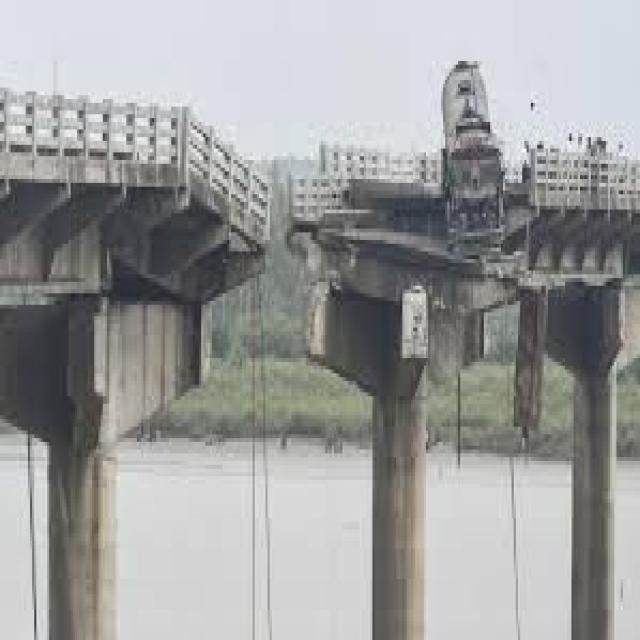bridge collapse: (36, 14, 640, 639)
